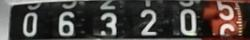digits: (139, 8, 160, 37), (179, 8, 198, 36), (58, 11, 77, 36), (100, 12, 118, 37), (215, 0, 234, 21), (22, 13, 37, 36)
